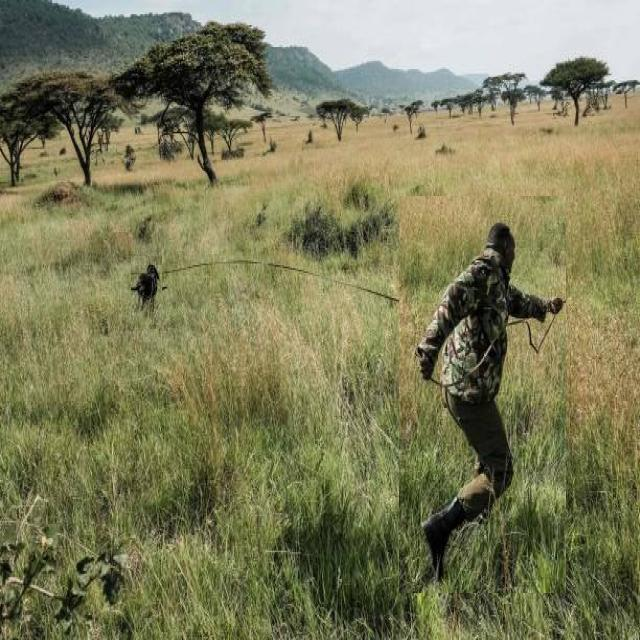Dog: (126, 255, 168, 322)
Hunter: (399, 196, 566, 593)
